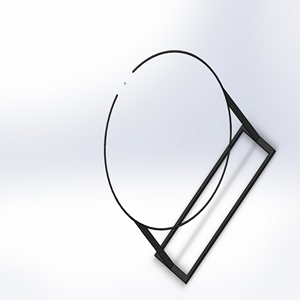circle: (101, 48, 277, 284)
